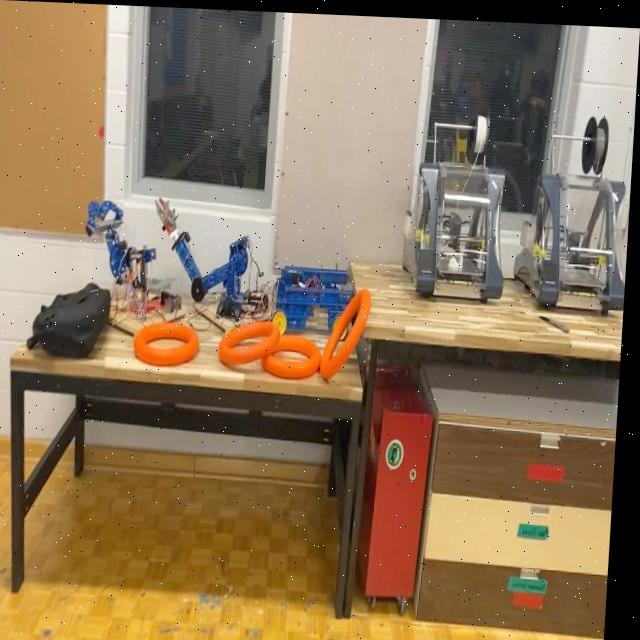note: (322, 280, 377, 380), (136, 318, 204, 369), (221, 316, 285, 368), (263, 332, 327, 376)
